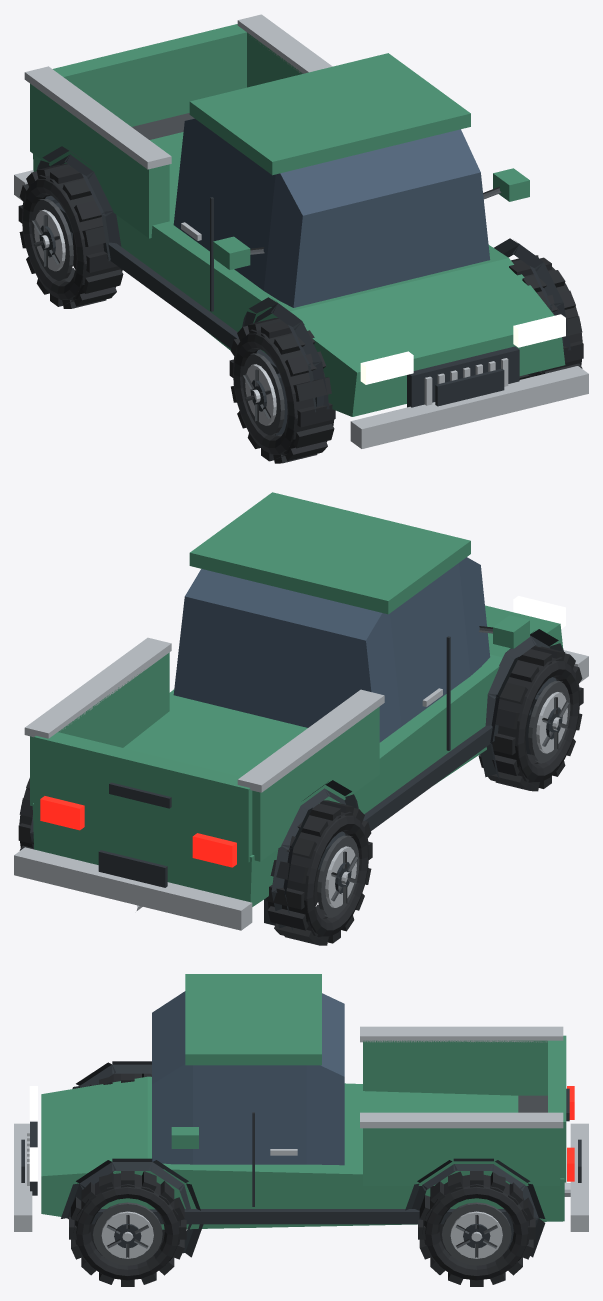
File: car-truck.glb
The picture shows the model from 3 angles, top to bottom: view 1: azimuth 30°, elevation 25°; view 2: azimuth 150°, elevation 25°; view 3: azimuth 270°, elevation 25°; orthographic projection. The views are drawn at different scales.
Parts seen in each view (by area): view 1: body-detail, wheel-front-left, wheel-back-left, wheel-front-right; view 2: body-detail, wheel-back-left, wheel-front-left, wheel-back-right; view 3: body-detail, wheel-front-right, wheel-back-right.
Boxes of the visible parts, x1,y1,x2,y2 form: body-detail: [14, 14, 588, 448]; wheel-front-left: [229, 318, 335, 463]; wheel-back-left: [18, 163, 123, 308]; wheel-front-right: [509, 255, 583, 379]; body-detail: [14, 492, 588, 931]; wheel-back-left: [266, 800, 372, 945]; wheel-front-left: [478, 645, 583, 791]; wheel-back-right: [18, 778, 33, 850]; body-detail: [14, 974, 588, 1257]; wheel-front-right: [69, 1171, 186, 1286]; wheel-back-right: [418, 1171, 535, 1286].
Size of the model in its own units: 1.93 by 1.57 by 3.79.
